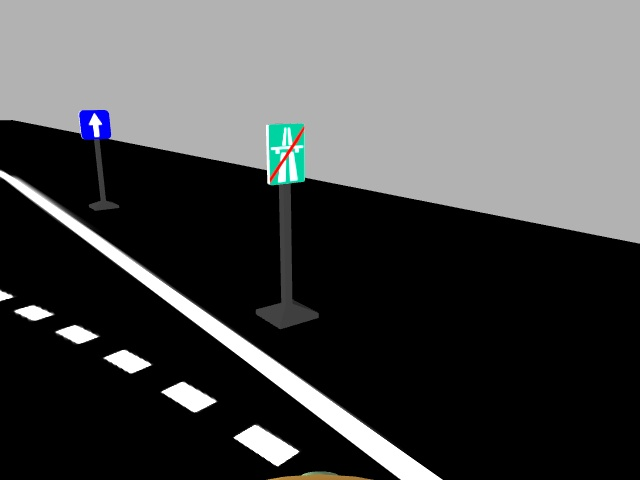HighwayExit: (261, 121, 307, 184)
OneWay: (76, 108, 112, 139)
